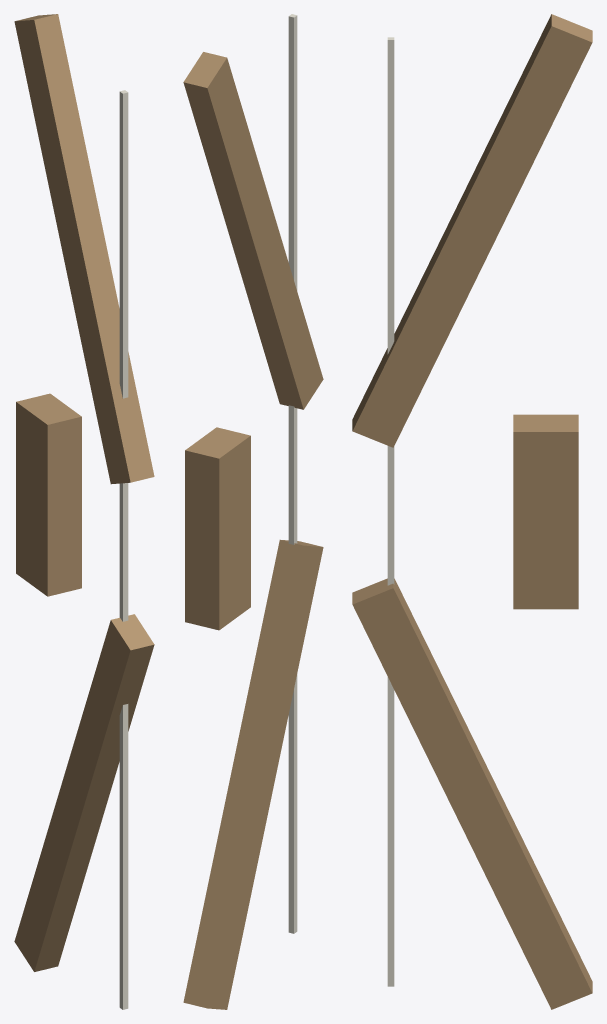
The model's file is bow.glb.
3 views of the same model, side by side, from view 1: azimuth 30°, elevation 25°; view 2: azimuth 150°, elevation 25°; view 3: azimuth 270°, elevation 25° (orthographic). The views are drawn at different scales.
Visible parts, largest first — view 1: bow; view 2: bow; view 3: bow.
Boxes of the visible parts, x1,y1,x2,y2 form: bow: (14, 14, 154, 1009); bow: (183, 14, 323, 1009); bow: (352, 14, 592, 1009).
Size of the model in its own units: 0.05 by 1.33 by 0.2943.
